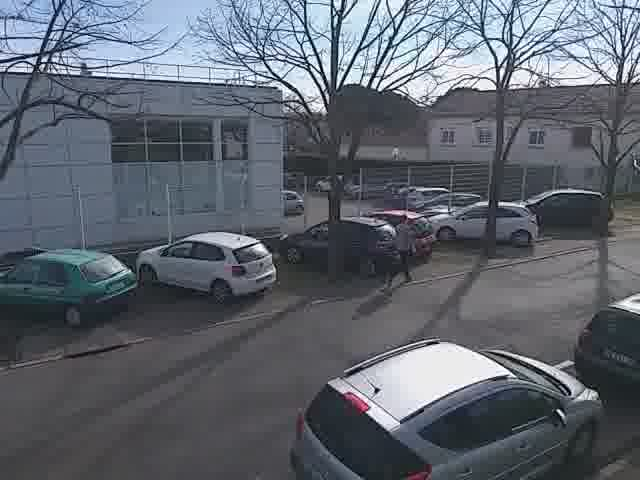persona: (383, 202, 421, 287)
